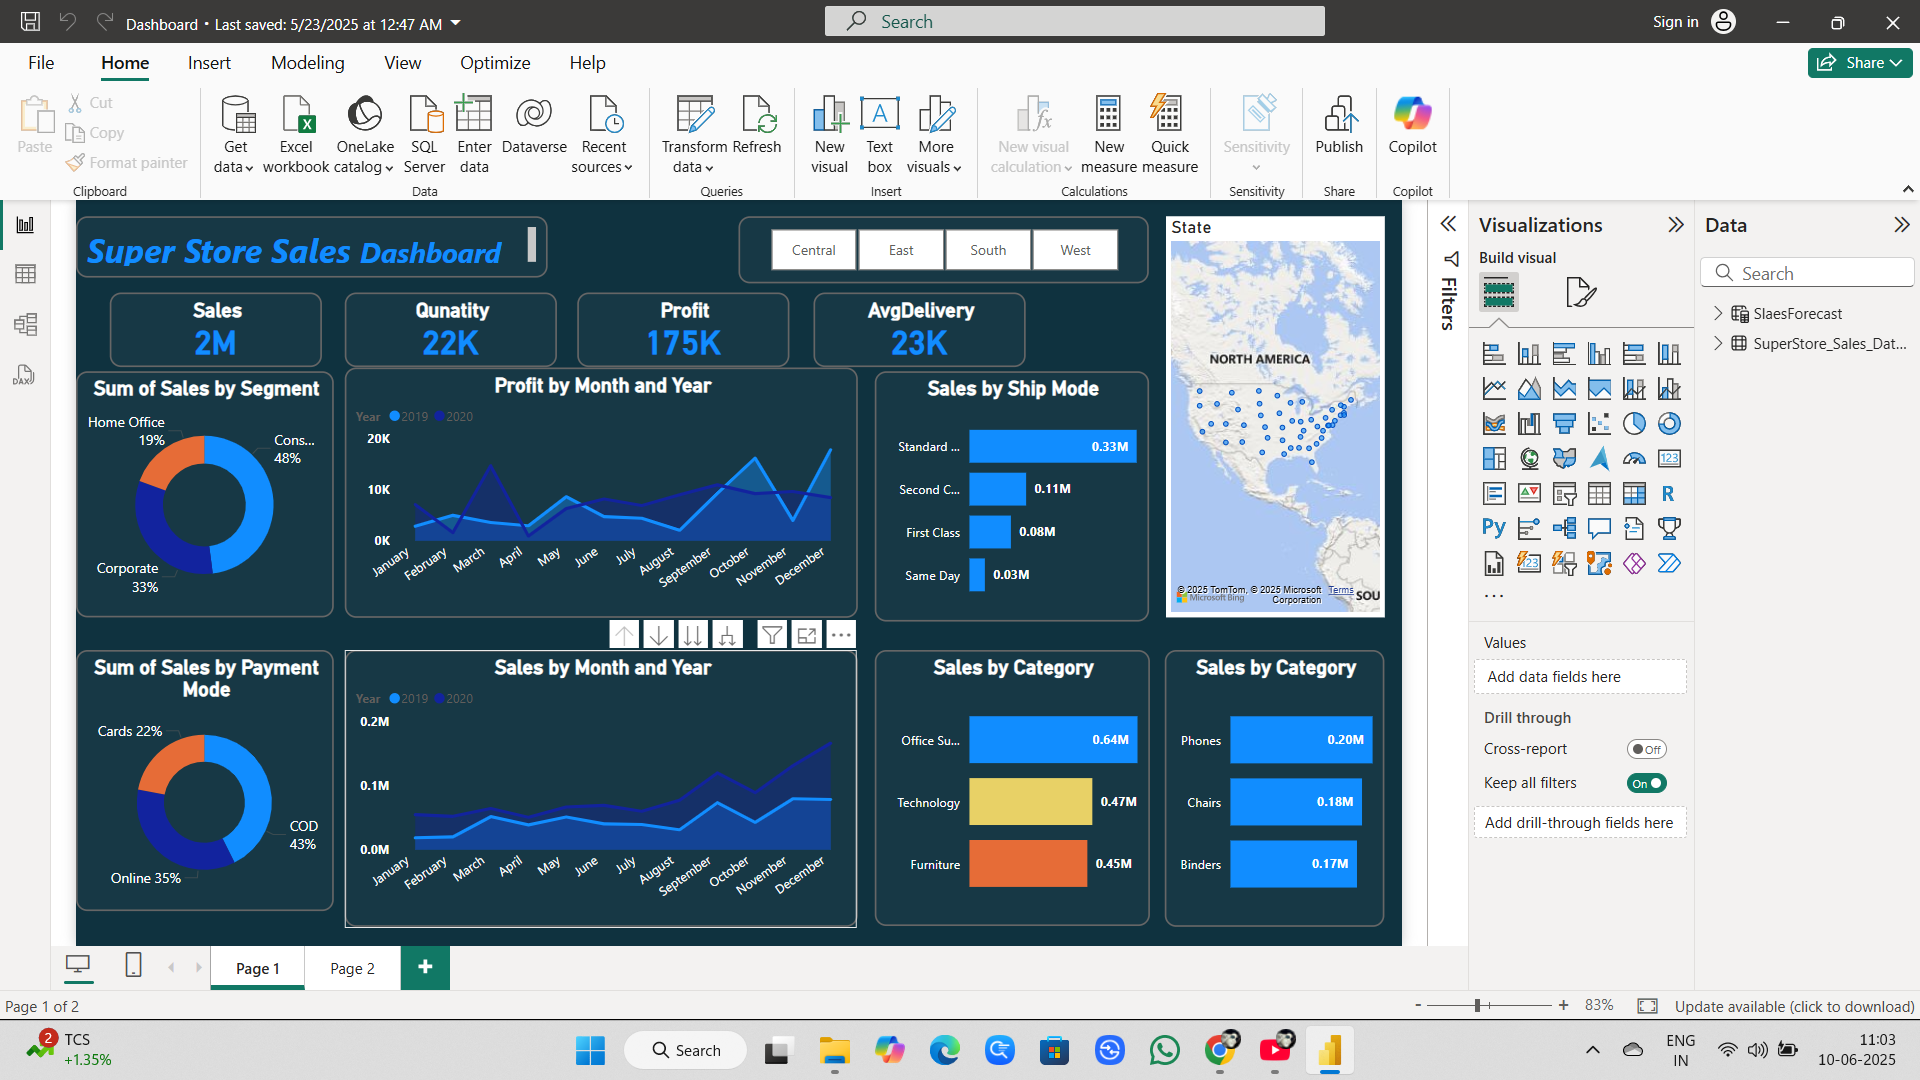

The page's visual inventory and layout, read from the dashboard file:
{"tool":"powerbi","page":{"name":"Page 1","canvas":[1280,720],"ordinal":0},"visuals":[{"type":"clusteredBarChart","title":"Sales by Category","fields":{"Y":["Sum(SuperStore_Sales_Dataset csv.Sales)"],"Category":["SuperStore_Sales_Dataset csv.Category"]},"box":[771.3,434.4,265.2,266.7],"z":0},{"type":"clusteredBarChart","title":"Sales by Category","fields":{"Y":["Sum(SuperStore_Sales_Dataset csv.Sales)"],"Category":["SuperStore_Sales_Dataset csv.Sub-Category"]},"box":[1051.1,434.3,212.2,267.4],"z":1000},{"type":"clusteredBarChart","title":"Sales by Ship Mode","fields":{"Y":["Sum(SuperStore_Sales_Dataset csv.Sales)"],"Category":["SuperStore_Sales_Dataset csv.Ship Mode"]},"box":[771,165.5,264.5,241.9],"z":2000},{"type":"areaChart","title":" Sales by Month and Year","fields":{"Category":["SuperStore_Sales_Dataset csv.Order Date.Variation.Date Hierarchy.Month","SuperStore_Sales_Dataset csv.Order Date.Variation.Date Hierarchy.Day"],"Y":["Sum(SuperStore_Sales_Dataset csv.Sales)"],"Series":["SuperStore_Sales_Dataset csv.Order Date.Variation.Date Hierarchy.Year"]},"box":[258.9,434.3,495.1,267.4],"z":3000},{"type":"areaChart","title":" Profit by Month and Year","fields":{"Category":["SuperStore_Sales_Dataset csv.Order Date.Variation.Date Hierarchy.Month","SuperStore_Sales_Dataset csv.Order Date.Variation.Date Hierarchy.Day"],"Series":["SuperStore_Sales_Dataset csv.Order Date.Variation.Date Hierarchy.Year"],"Y":["Sum(SuperStore_Sales_Dataset csv.Profit)"]},"box":[258.9,161.3,495.1,241.9],"z":4000},{"type":"donutChart","fields":{"Category":["SuperStore_Sales_Dataset csv.Segment"],"Y":["Sum(SuperStore_Sales_Dataset csv.Sales)"]},"box":[0,165.5,249,237.7],"z":6000},{"type":"donutChart","fields":{"Y":["Sum(SuperStore_Sales_Dataset csv.Sales)"],"Category":["SuperStore_Sales_Dataset csv.Payment Mode"]},"box":[0,434.3,249,251.8],"z":6001},{"type":"slicer","fields":{"Values":["SuperStore_Sales_Dataset csv.Region"]},"box":[639.4,15.6,396.1,65.1],"z":6002},{"type":"textbox","box":[0,15.6,455.5,59.4],"z":6003},{"type":"card","title":"Sales","fields":{"Values":["Sum(SuperStore_Sales_Dataset csv.Sales)"]},"box":[32.5,89.1,205.1,72.1],"z":6004},{"type":"card","title":"Qunatity","fields":{"Values":["Sum(SuperStore_Sales_Dataset csv.Quantity)"]},"box":[258.9,89.1,205.1,72.1],"z":6005},{"type":"card","title":"Profit","fields":{"Values":["Sum(SuperStore_Sales_Dataset csv.Profit)"]},"box":[483.8,89.1,205.1,72.1],"z":6006},{"type":"card","title":"AvgDelivery","fields":{"Values":["Sum(SuperStore_Sales_Dataset csv.AvgDelivery)"]},"box":[711.6,89.1,205.1,72.1],"z":6007},{"type":"map","fields":{"Category":["SuperStore_Sales_Dataset csv.State"]},"box":[1051.4,15.7,211.4,387.1],"z":6008}]}

Visuals, with their boxes on the page's 1280x720 design canvas (x1, y1, x2, y2). These are canvas units, not pixel positions in the 1920x1080 screenshot, which may show the page scaled, cropped or inside an application window:
"Sales by Category" clusteredBarChart: bbox=(771, 434, 1036, 701)
"Sales by Category" clusteredBarChart: bbox=(1051, 434, 1263, 702)
"Sales by Ship Mode" clusteredBarChart: bbox=(771, 166, 1036, 407)
" Sales by Month and Year" areaChart: bbox=(259, 434, 754, 702)
" Profit by Month and Year" areaChart: bbox=(259, 161, 754, 403)
donutChart - SuperStore_Sales_Dataset csv.Segment x Sum(SuperStore_Sales_Dataset csv.Sales): bbox=(0, 166, 249, 403)
donutChart - Sum(SuperStore_Sales_Dataset csv.Sales) x SuperStore_Sales_Dataset csv.Payment Mode: bbox=(0, 434, 249, 686)
slicer - SuperStore_Sales_Dataset csv.Region: bbox=(639, 16, 1036, 81)
textbox: bbox=(0, 16, 456, 75)
"Sales" card: bbox=(32, 89, 238, 161)
"Qunatity" card: bbox=(259, 89, 464, 161)
"Profit" card: bbox=(484, 89, 689, 161)
"AvgDelivery" card: bbox=(712, 89, 917, 161)
map - SuperStore_Sales_Dataset csv.State: bbox=(1051, 16, 1263, 403)
